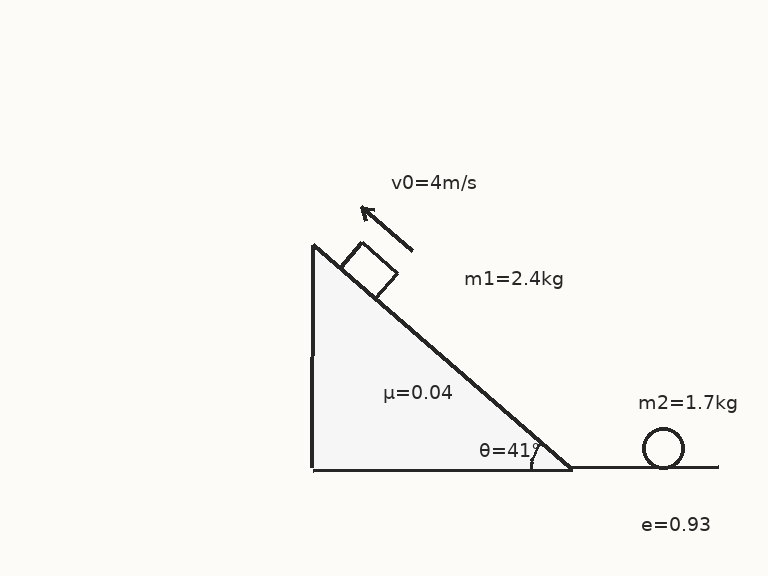ball: (640, 425, 686, 471)
block: (338, 241, 399, 301)
ramp: (311, 243, 573, 471)
